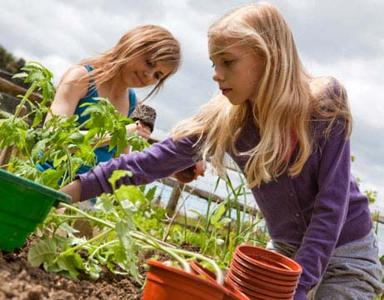person: (53, 4, 383, 300)
